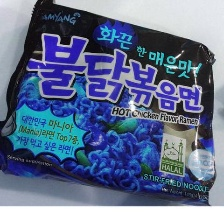snack: (0, 0, 224, 206)
